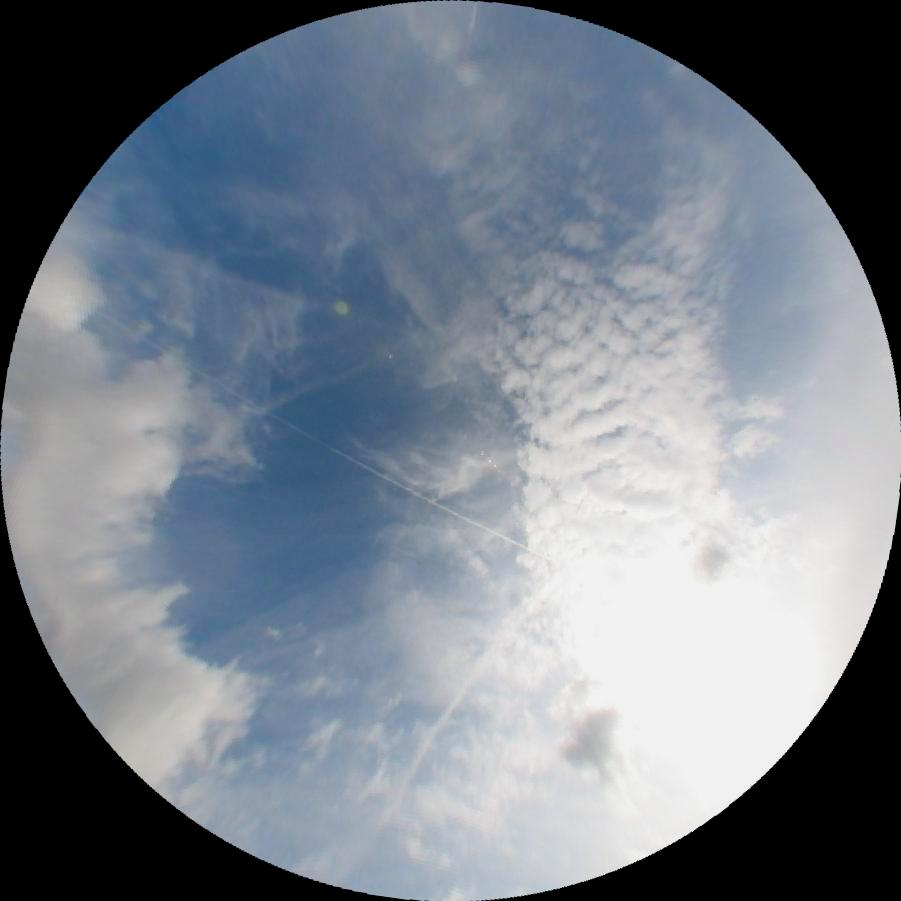contrail young: (92, 310, 560, 572)
sun: (533, 491, 861, 823)
